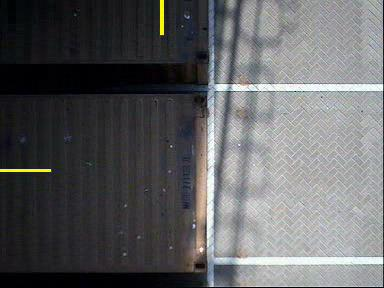groundmarker_2: (184, 128, 223, 190)
